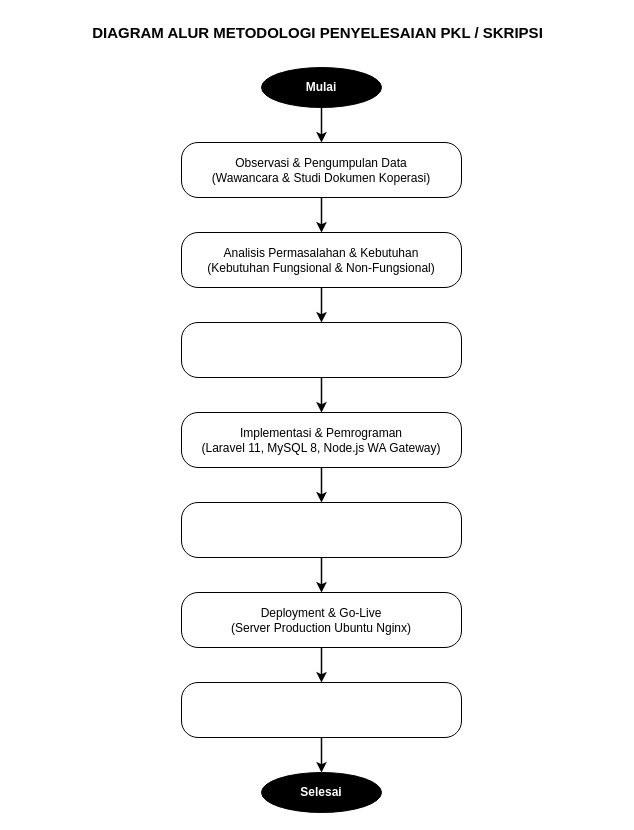
Image size: 634x830. Some labels were removed from this diagram. The shapes that lost their labels are listed below. From the top down, each one's centre as x and y in pixels, then its label:
At pixel 321 350: "Perancangan & Functional Prototyping (UML, ERD, Schema DB, Direct Code UI)".
At pixel 321 530: "Pengujian Sistem (Black Box Testing & UAT Bersama Kasir)".
At pixel 321 710: "Penarikan Kesimpulan & Laporan (Penyusunan Dokumentasi Laporan)".
